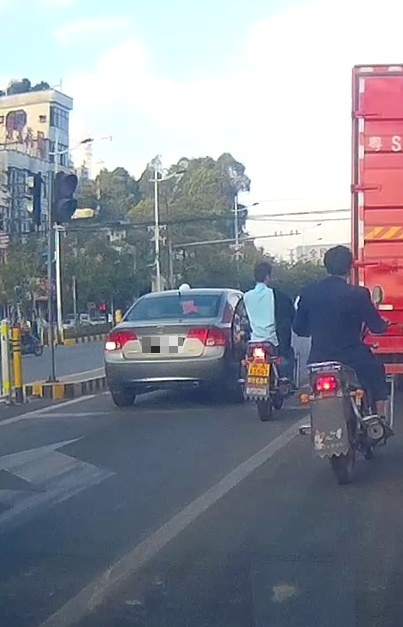L_light: (105, 331, 137, 352)
R_light: (187, 326, 227, 347)
T_light: (170, 295, 189, 300)
day-left: (103, 289, 228, 406)
plate_1: (142, 337, 183, 353)
